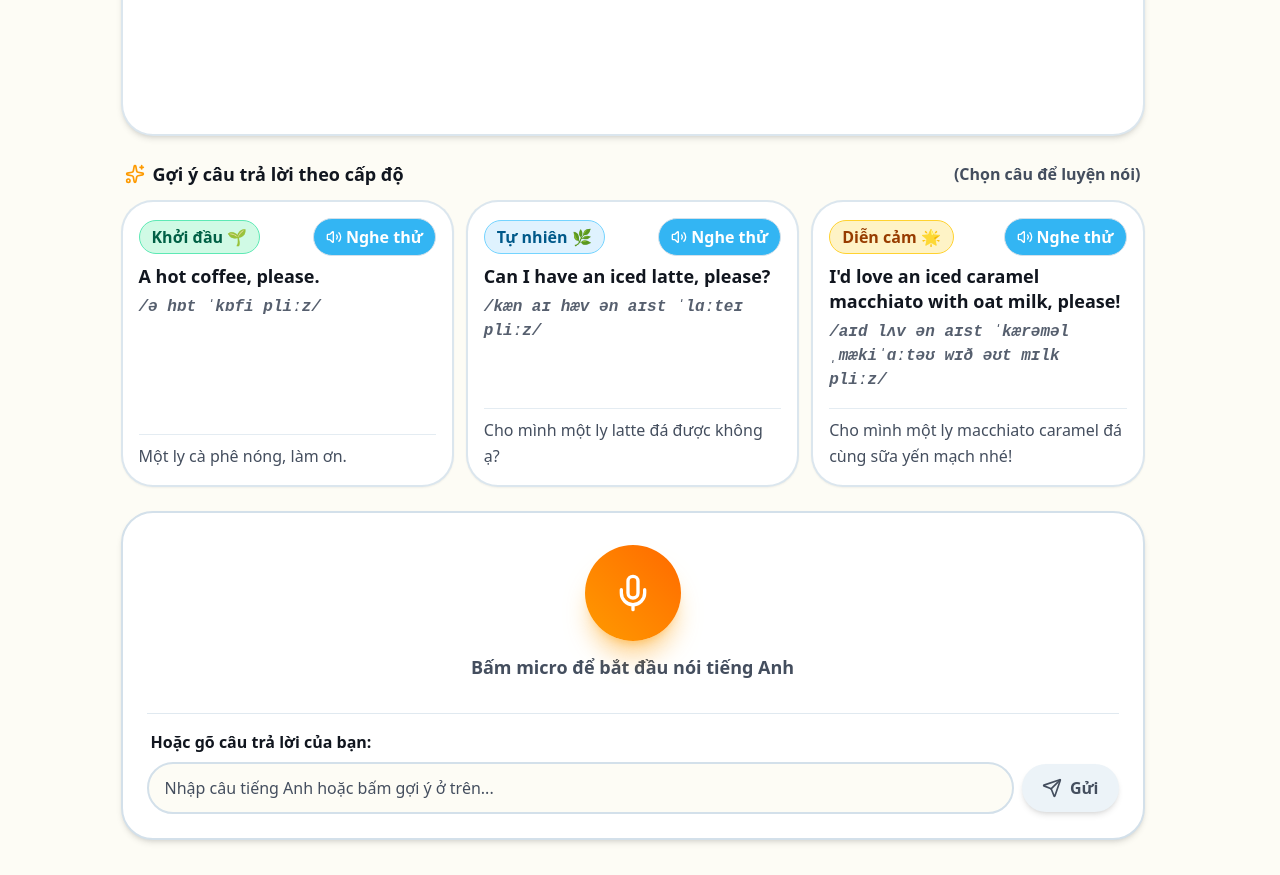
Test case: SpeakingArena Component › submits turn via fallback text input and receives tutor response
The image size is (1280, 875).
(page scrolled)
Type "A hot coffee" into the field with test id "text-input-fallback" at {"x": 580, "y": 788}, box left=146, top=762, right=1014, bottom=814
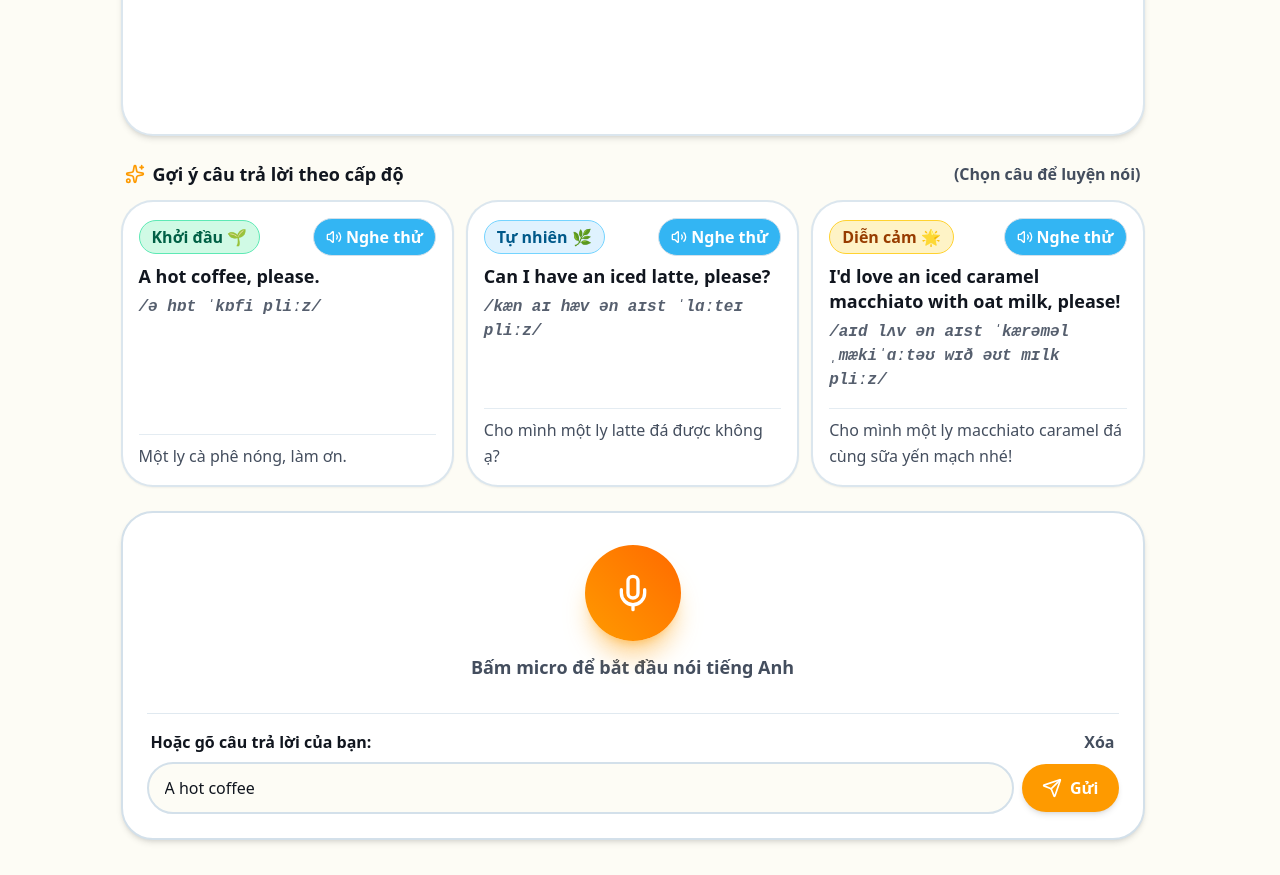
Click the button with test id "text-submit-button" at {"x": 1070, "y": 788}, box left=1022, top=764, right=1118, bottom=812
(page scrolled)
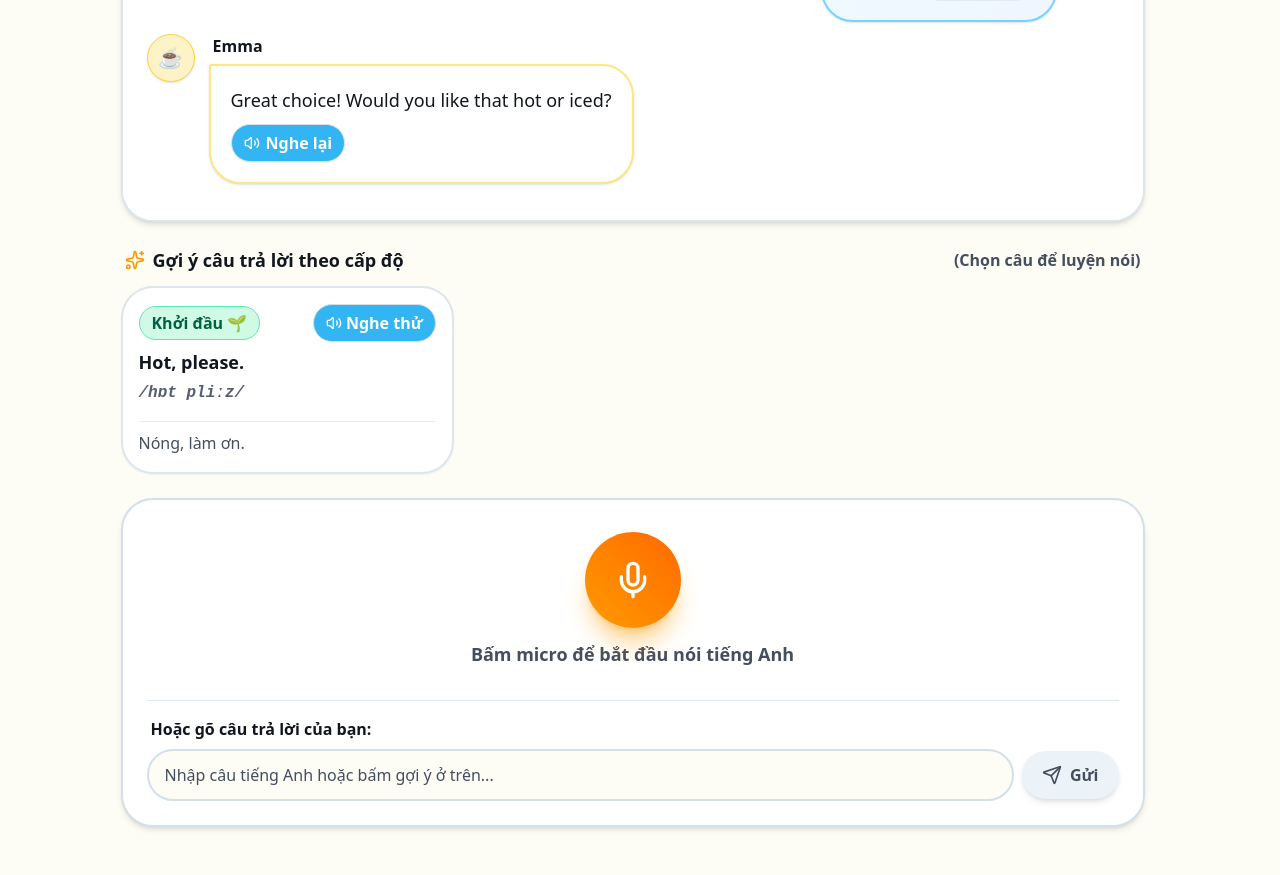
Expected: the text "Great choice! Would you like that hot or iced?" is shown, left=230, top=86, right=612, bottom=116
Expected: the text "Hot, please." is shown, left=138, top=350, right=244, bottom=374
